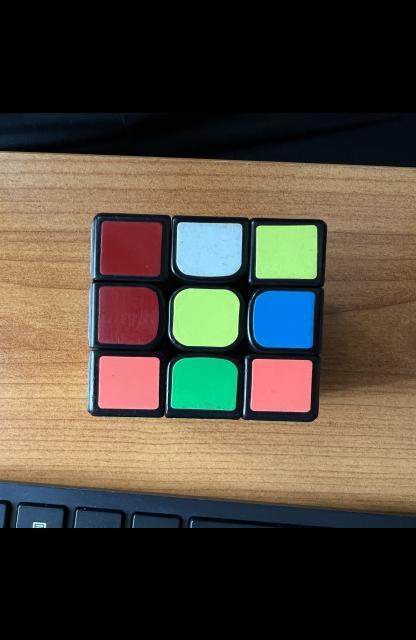Blue: (253, 290, 316, 347)
Green: (170, 356, 238, 410)
Orange: (250, 358, 313, 411), (98, 355, 159, 409)
Red: (98, 285, 159, 344), (100, 220, 163, 276)
White: (176, 221, 243, 276)
Yellow: (173, 288, 239, 346), (256, 224, 318, 278)
